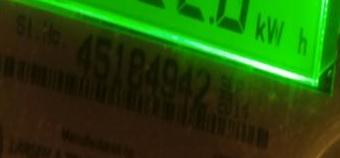.: (255, 11, 311, 61)
0: (205, 16, 215, 26)
